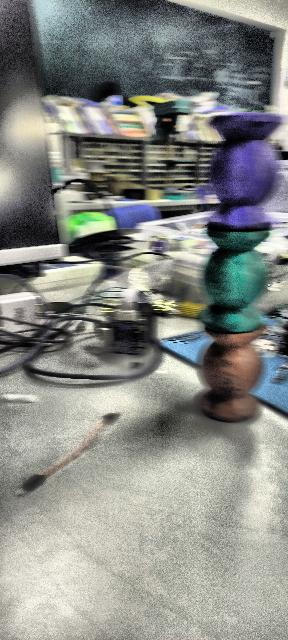blue: (208, 116, 274, 232)
green: (205, 234, 269, 332)
red: (200, 332, 264, 430)
